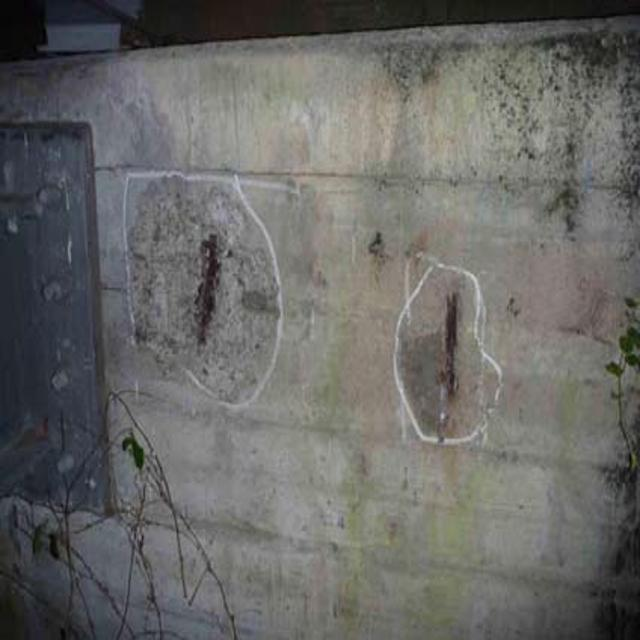spalling: (125, 157, 282, 404), (396, 293, 507, 426)
